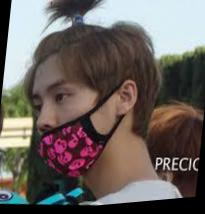WRONG: (22, 72, 109, 188)
